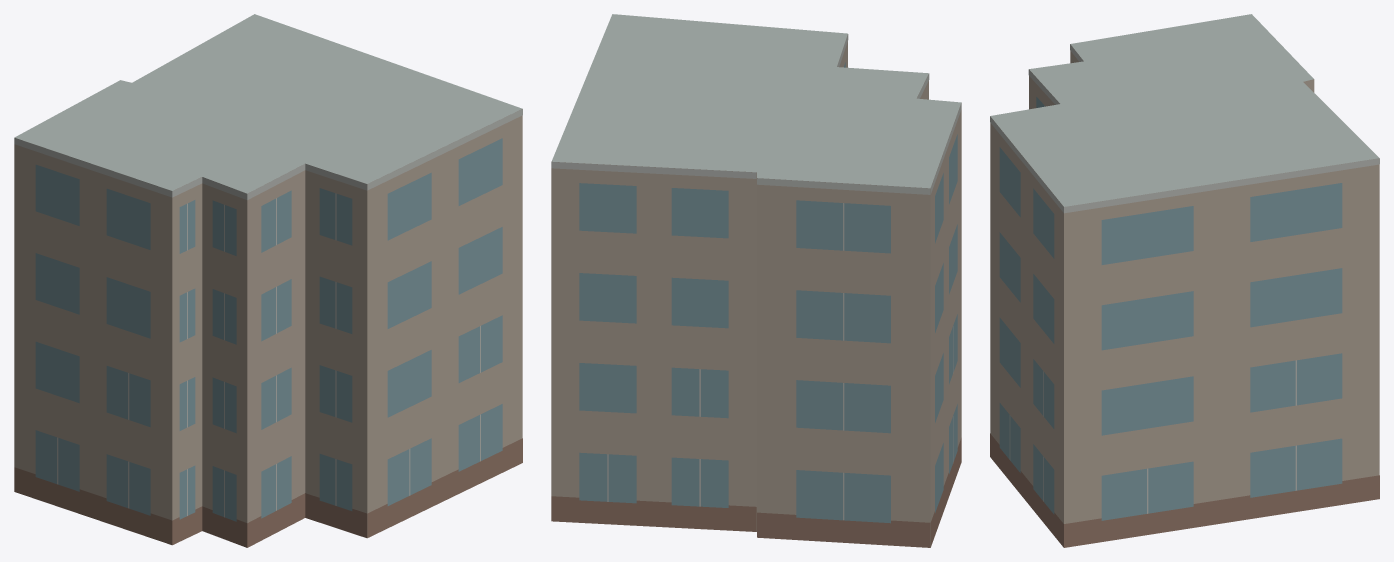
The model's file is survey-upis-32986493.glb.
3 views of the same model, side by side, from view 1: azimuth 30°, elevation 25°; view 2: azimuth 150°, elevation 25°; view 3: azimuth 270°, elevation 25° (orthographic). The views are drawn at different scales.
Visible parts, largest first — view 1: survey-upis-32986493.tmp; view 2: survey-upis-32986493.tmp; view 3: survey-upis-32986493.tmp.
Boxes of the visible parts, bbox=[...] form: survey-upis-32986493.tmp: bbox=[14, 14, 522, 547]; survey-upis-32986493.tmp: bbox=[551, 14, 961, 547]; survey-upis-32986493.tmp: bbox=[990, 14, 1379, 547].
Size of the model in its own units: 15.98 by 13.15 by 13.63.
